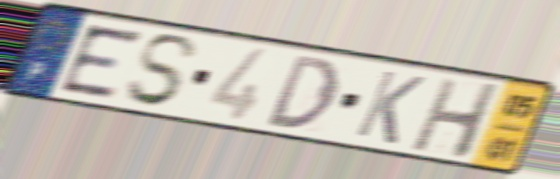4: (204, 45, 272, 125)
D: (263, 52, 343, 132)
E: (55, 22, 147, 101)
H: (407, 76, 505, 163)
K: (350, 67, 429, 148)
S: (123, 32, 202, 110)
